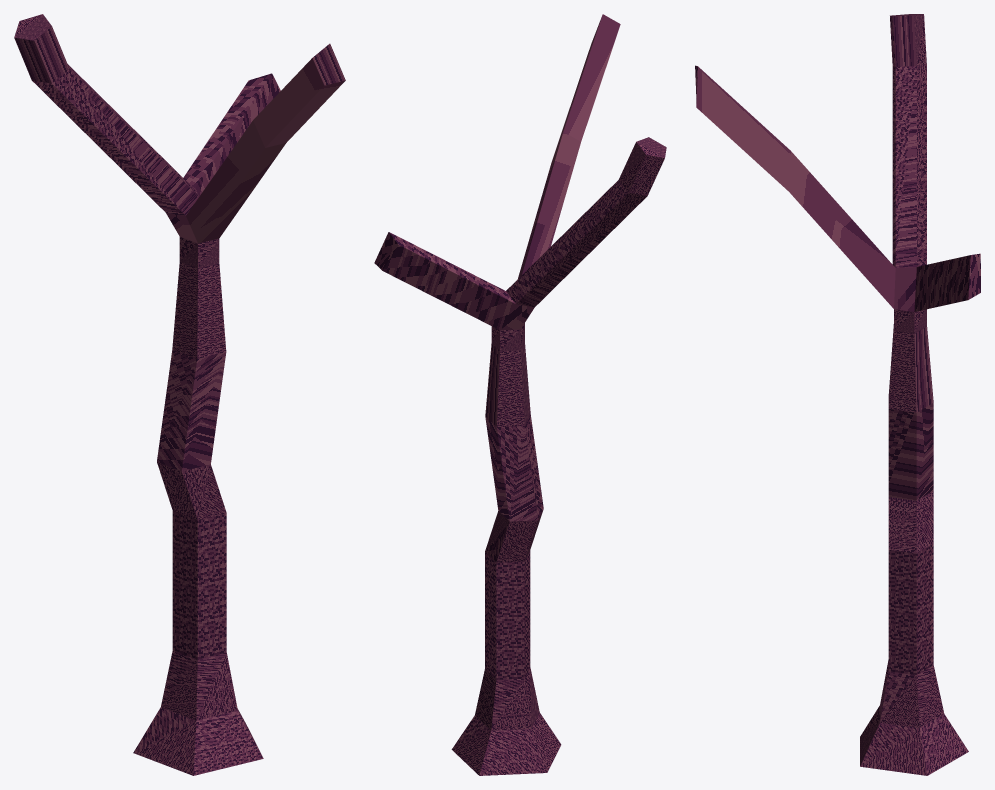
The model's file is Tree.fbx.
The picture shows the model from 3 angles, left to right: view 1: azimuth 30°, elevation 25°; view 2: azimuth 150°, elevation 25°; view 3: azimuth 270°, elevation 25°; orthographic projection. The views are drawn at different scales.
Visible parts, largest first — view 1: Cylinder; view 2: Cylinder; view 3: Cylinder.
Boxes of the visible parts, x1,y1,x2,y2 form: Cylinder: [14, 14, 345, 775]; Cylinder: [374, 14, 666, 775]; Cylinder: [695, 14, 980, 775].
Bounding box in the file's own units: 548 × 1328 × 499.
